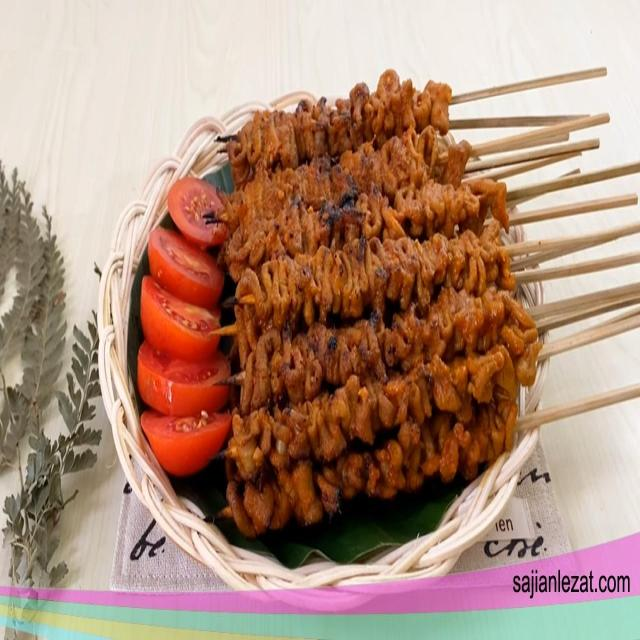Sate: (202, 64, 622, 516)
